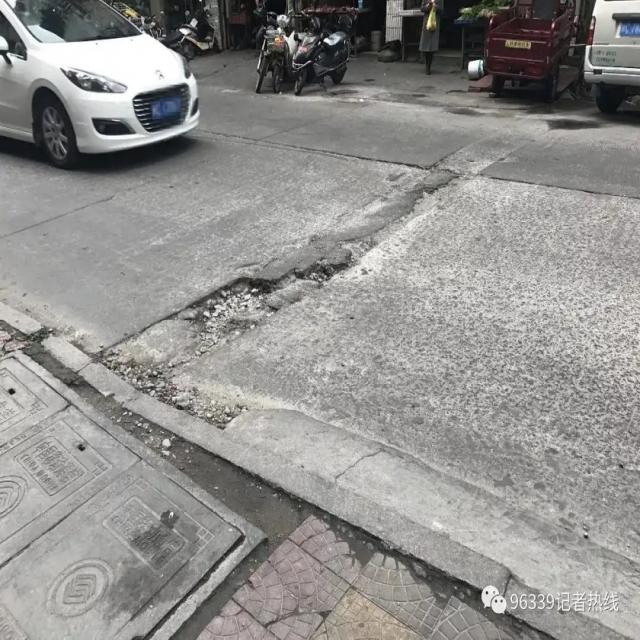Pothole: (169, 257, 353, 365), (390, 132, 530, 246)
